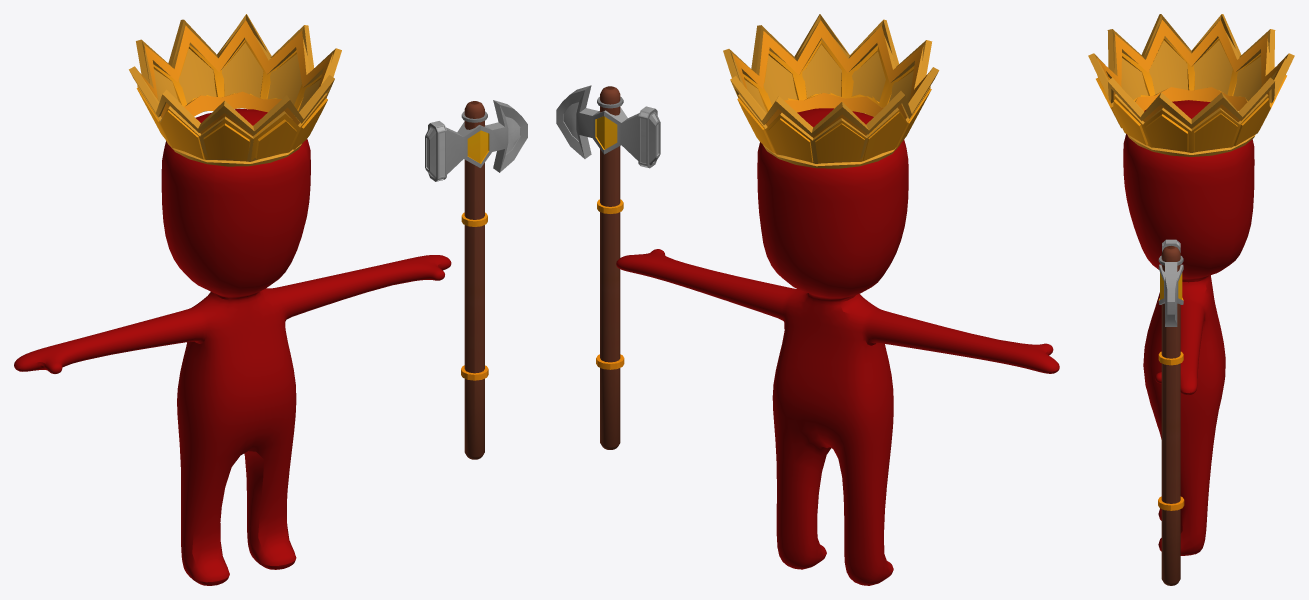
The model's file is boss.fbx.
3 renders of one model, left to right at view 1: azimuth 30°, elevation 25°; view 2: azimuth 150°, elevation 25°; view 3: azimuth 270°, elevation 25°, orthographic. The views are drawn at different scales.
Parts seen in each view (by area): view 1: boss, crown strokes, Weapon; view 2: boss, crown strokes, Weapon; view 3: boss, crown strokes, Weapon.
Part boxes in pixels (box(x1,y1,x2,y2)): boss: box(14, 109, 451, 585); crown strokes: box(129, 14, 341, 166); Weapon: box(425, 100, 527, 459); boss: box(616, 108, 1059, 585); crown strokes: box(723, 14, 939, 168); Weapon: box(556, 85, 660, 449); boss: box(1123, 100, 1254, 555); crown strokes: box(1088, 14, 1294, 156); Weapon: box(1158, 239, 1184, 585).
Size of the model in its own units: 500 by 486 by 188.
